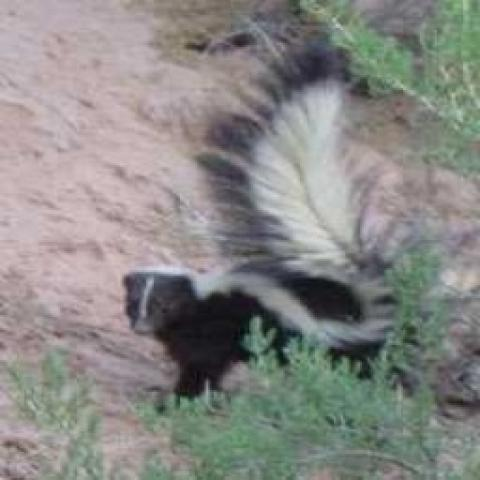small_animal: (116, 68, 401, 422)
